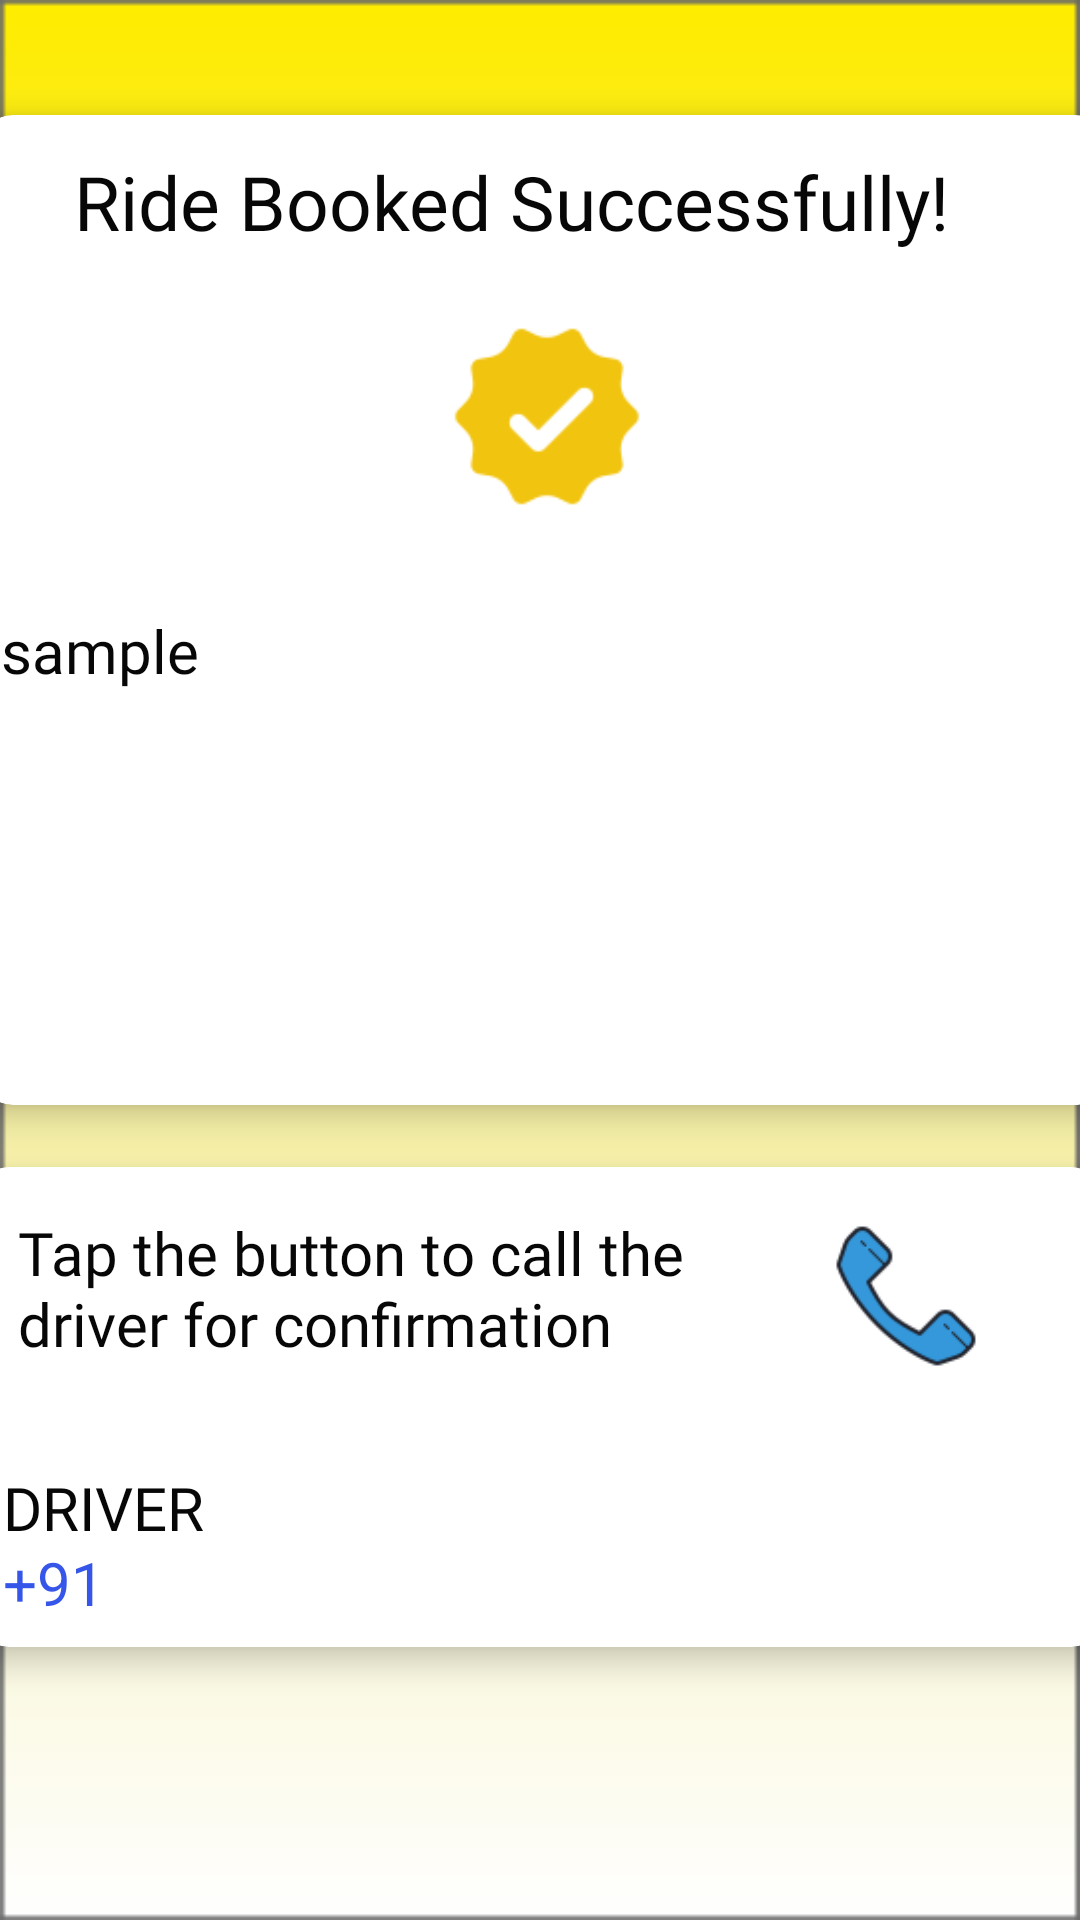

Icons on this 1080×1920 Android screen, each with the point to tap as point (x, y):
callvector: point (906, 1296)
yellowtickbjg: point (547, 416)
